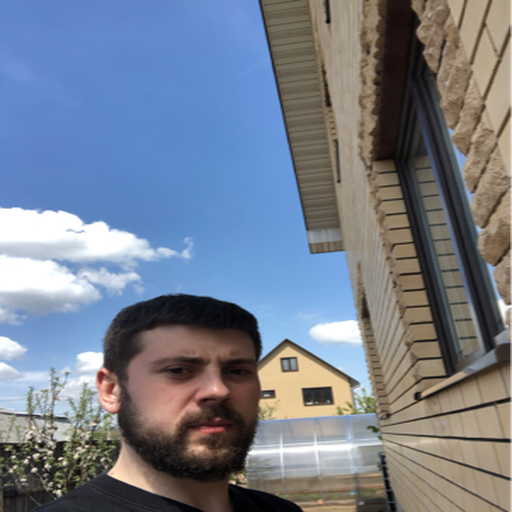person: (133, 342, 262, 467)
